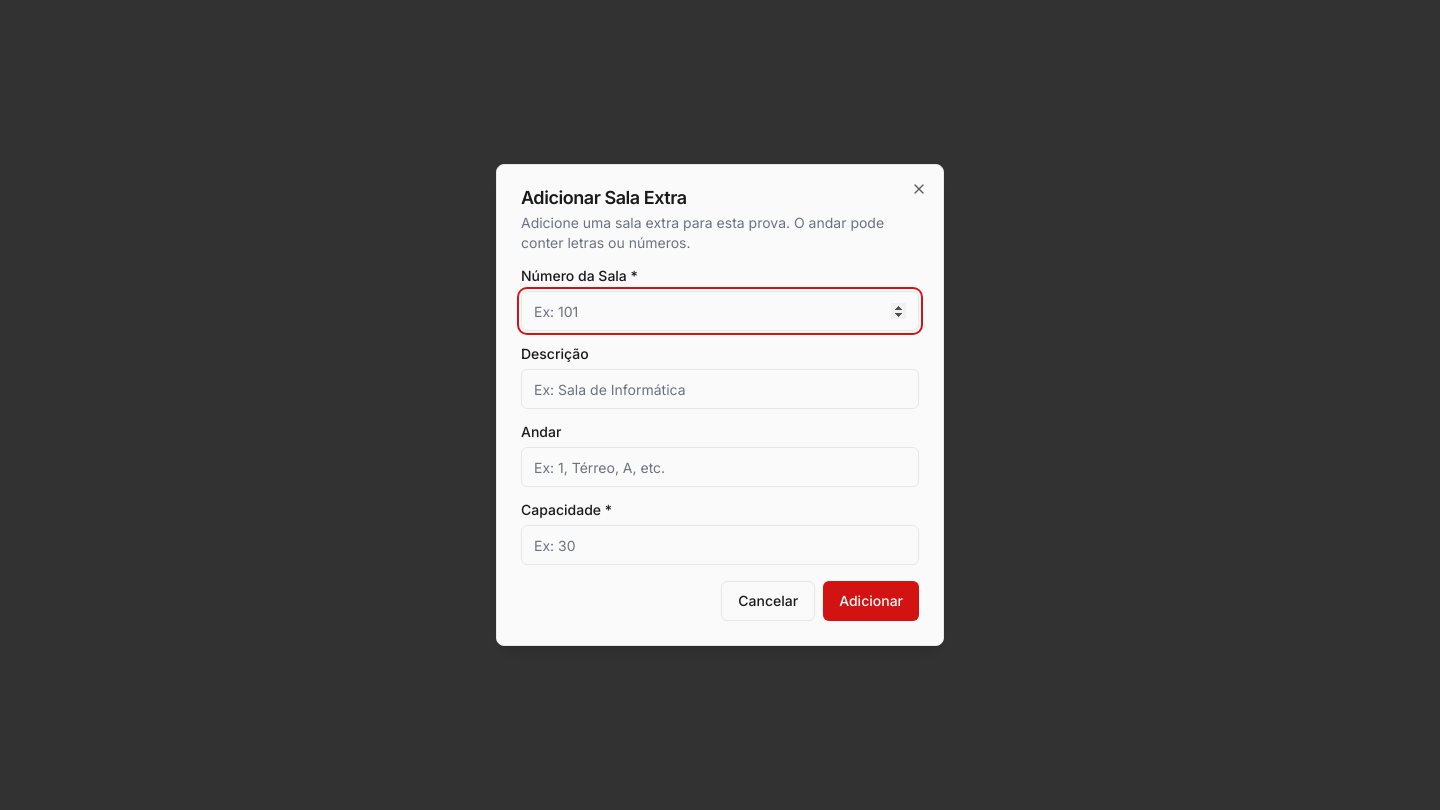
Scenario: SalaExtraDialog (interação) › fechar › Cancelar zera o formulário e fecha
Type "301" into the number field labelled "Número da Sala *" at (720, 311), box [521,291,919,331]
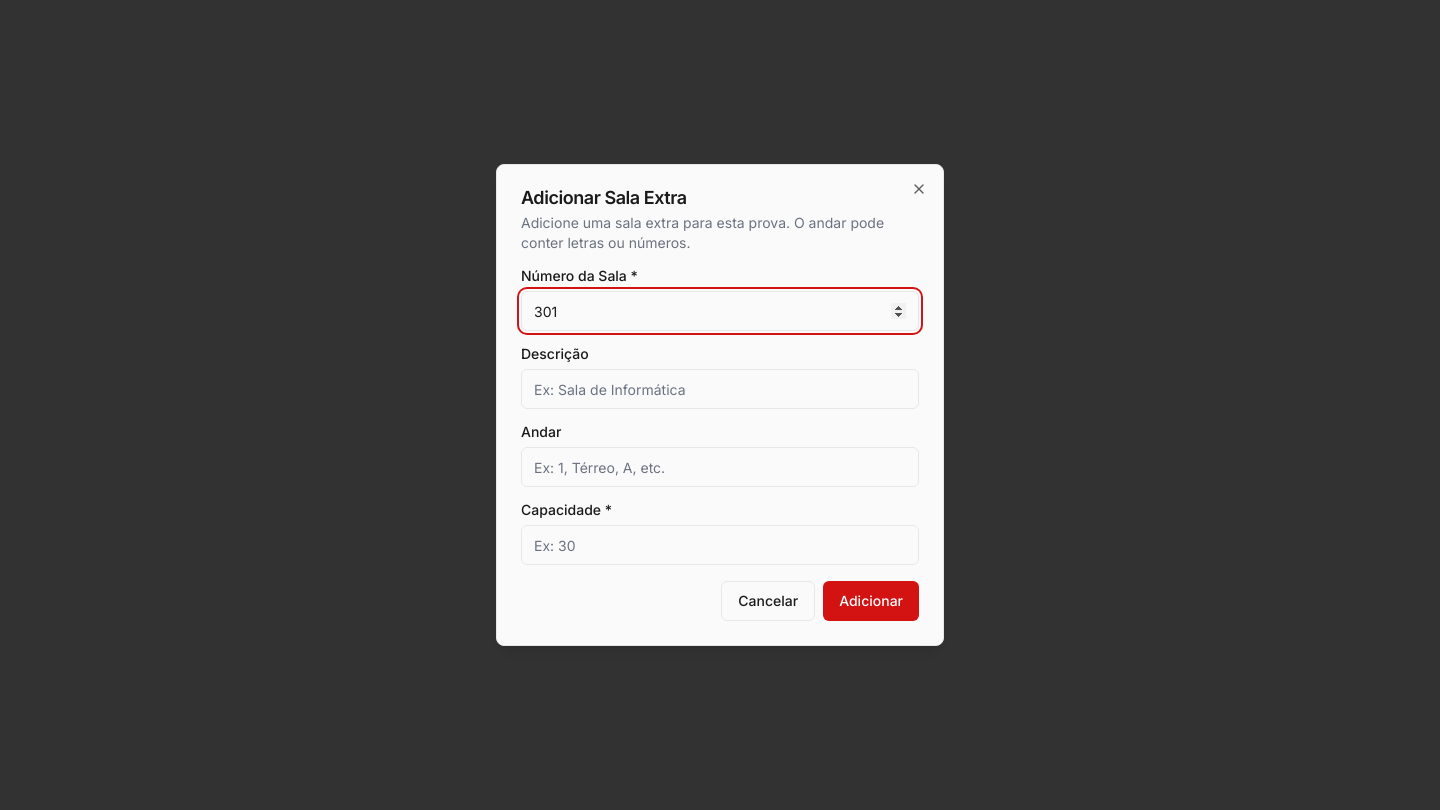
Click the button "Cancelar" at (768, 601), box [721,581,815,621]
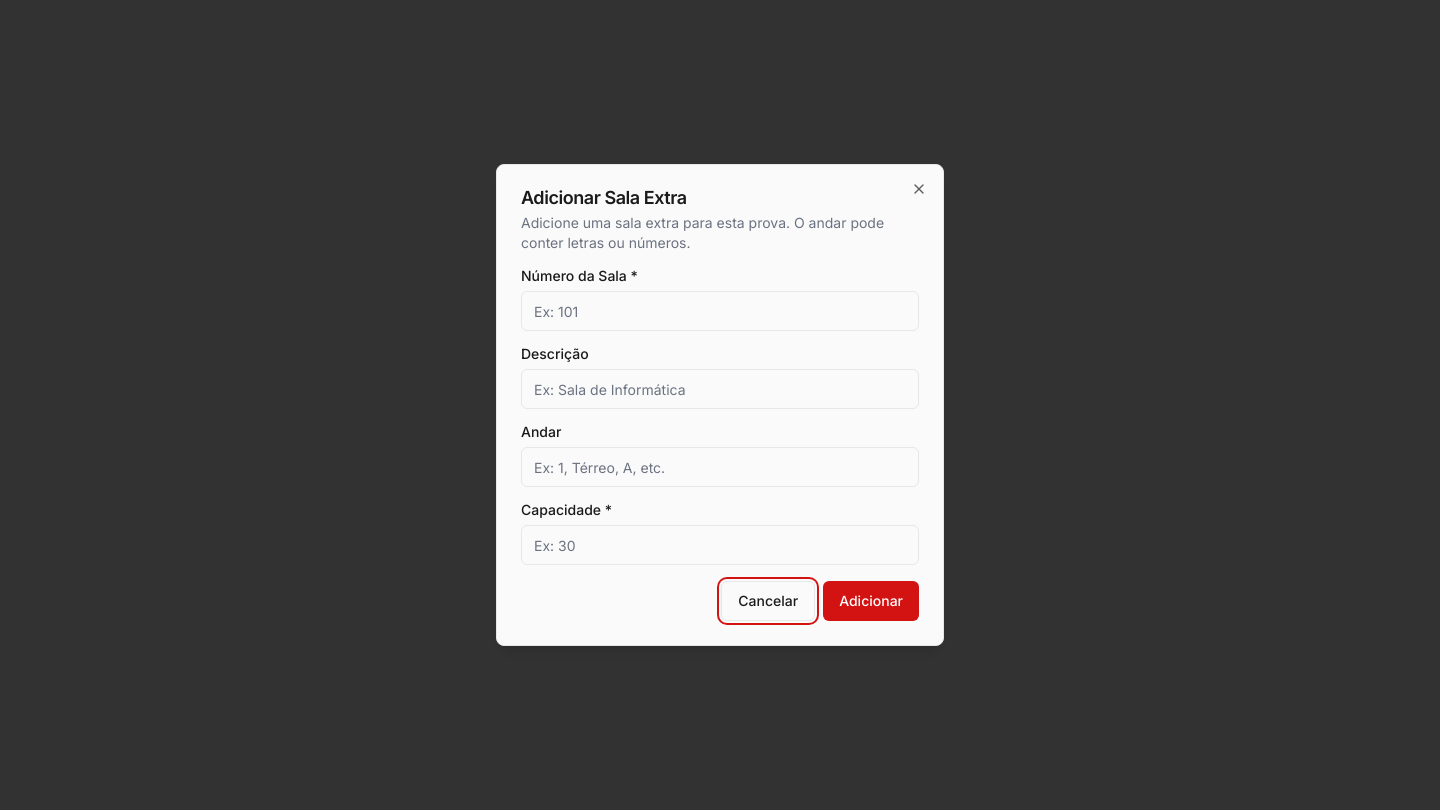
Check: the number field labelled "Número da Sala *" is not empty, box [521,291,919,331]
